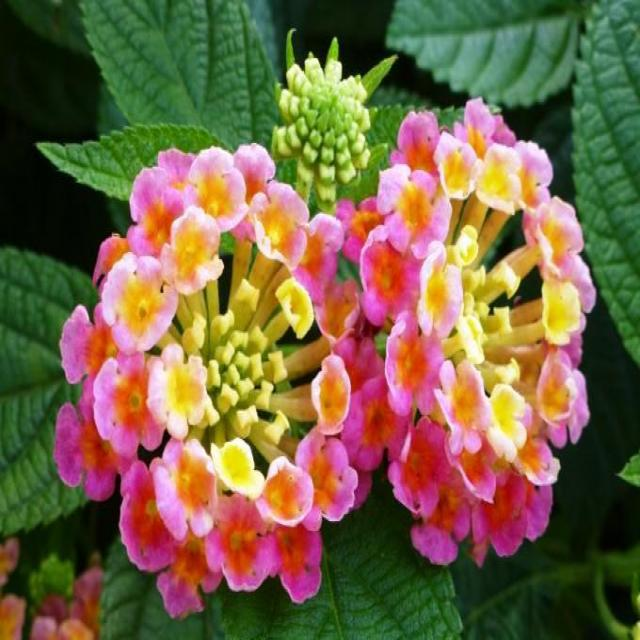organic waste: (45, 135, 404, 596), (352, 104, 608, 576)
